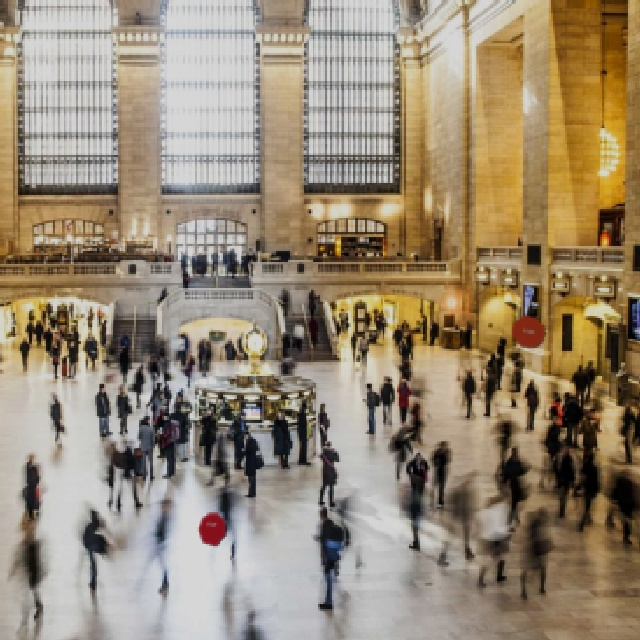STOP: (510, 313, 544, 347), (196, 511, 225, 545)
